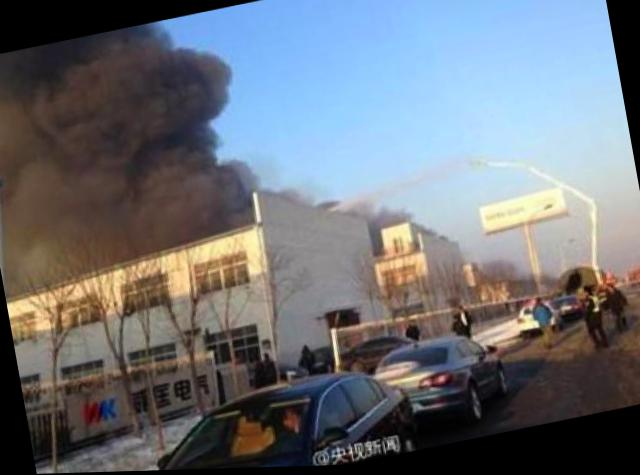smoke: (0, 8, 241, 191), (2, 145, 249, 285)
